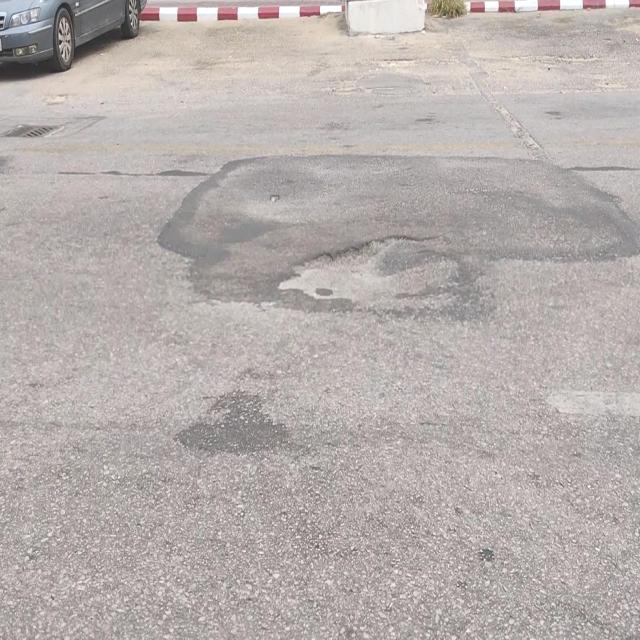Potholes: (273, 229, 460, 318)
